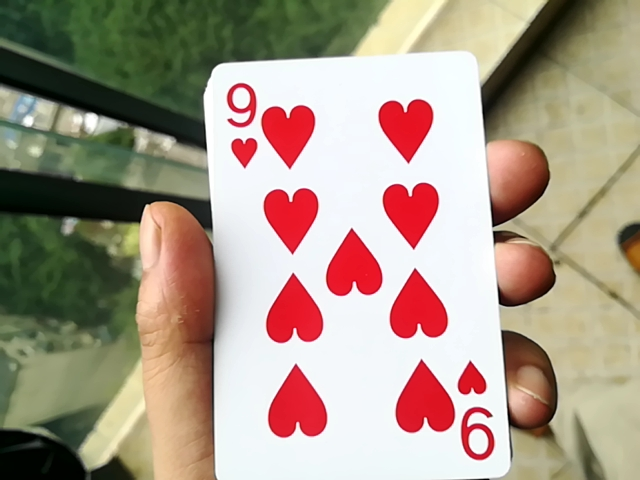hx 9: (187, 49, 513, 480)
